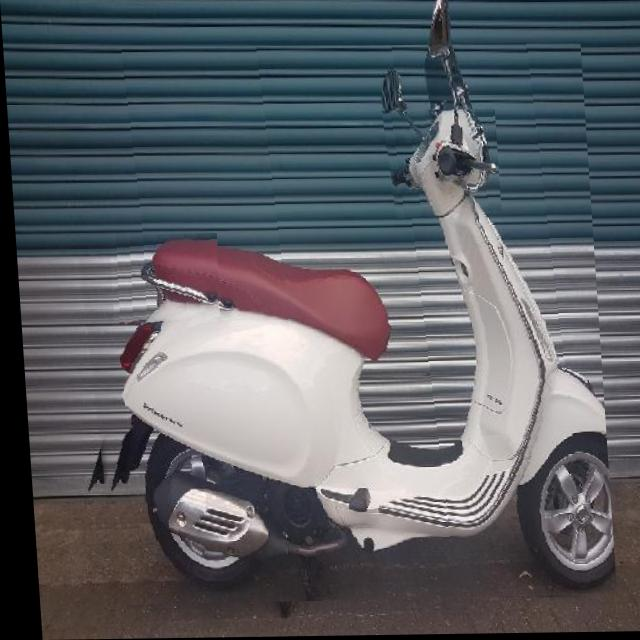All: (53, 44, 609, 606)
Head: (380, 110, 499, 220)
Tail: (105, 234, 218, 326)
